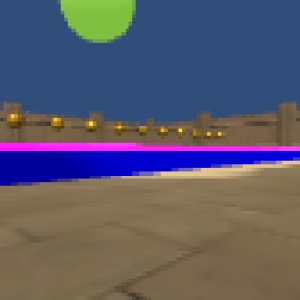goodGoal: (59, 1, 138, 42)
goodGoalMulti: (4, 112, 27, 131), (45, 116, 65, 132), (112, 121, 127, 137), (83, 120, 100, 134), (155, 126, 170, 139), (192, 127, 204, 142), (174, 127, 187, 140), (136, 124, 148, 137), (216, 130, 227, 140), (205, 131, 214, 140)
platform: (1, 152, 300, 185)
ramp: (1, 141, 300, 153)
